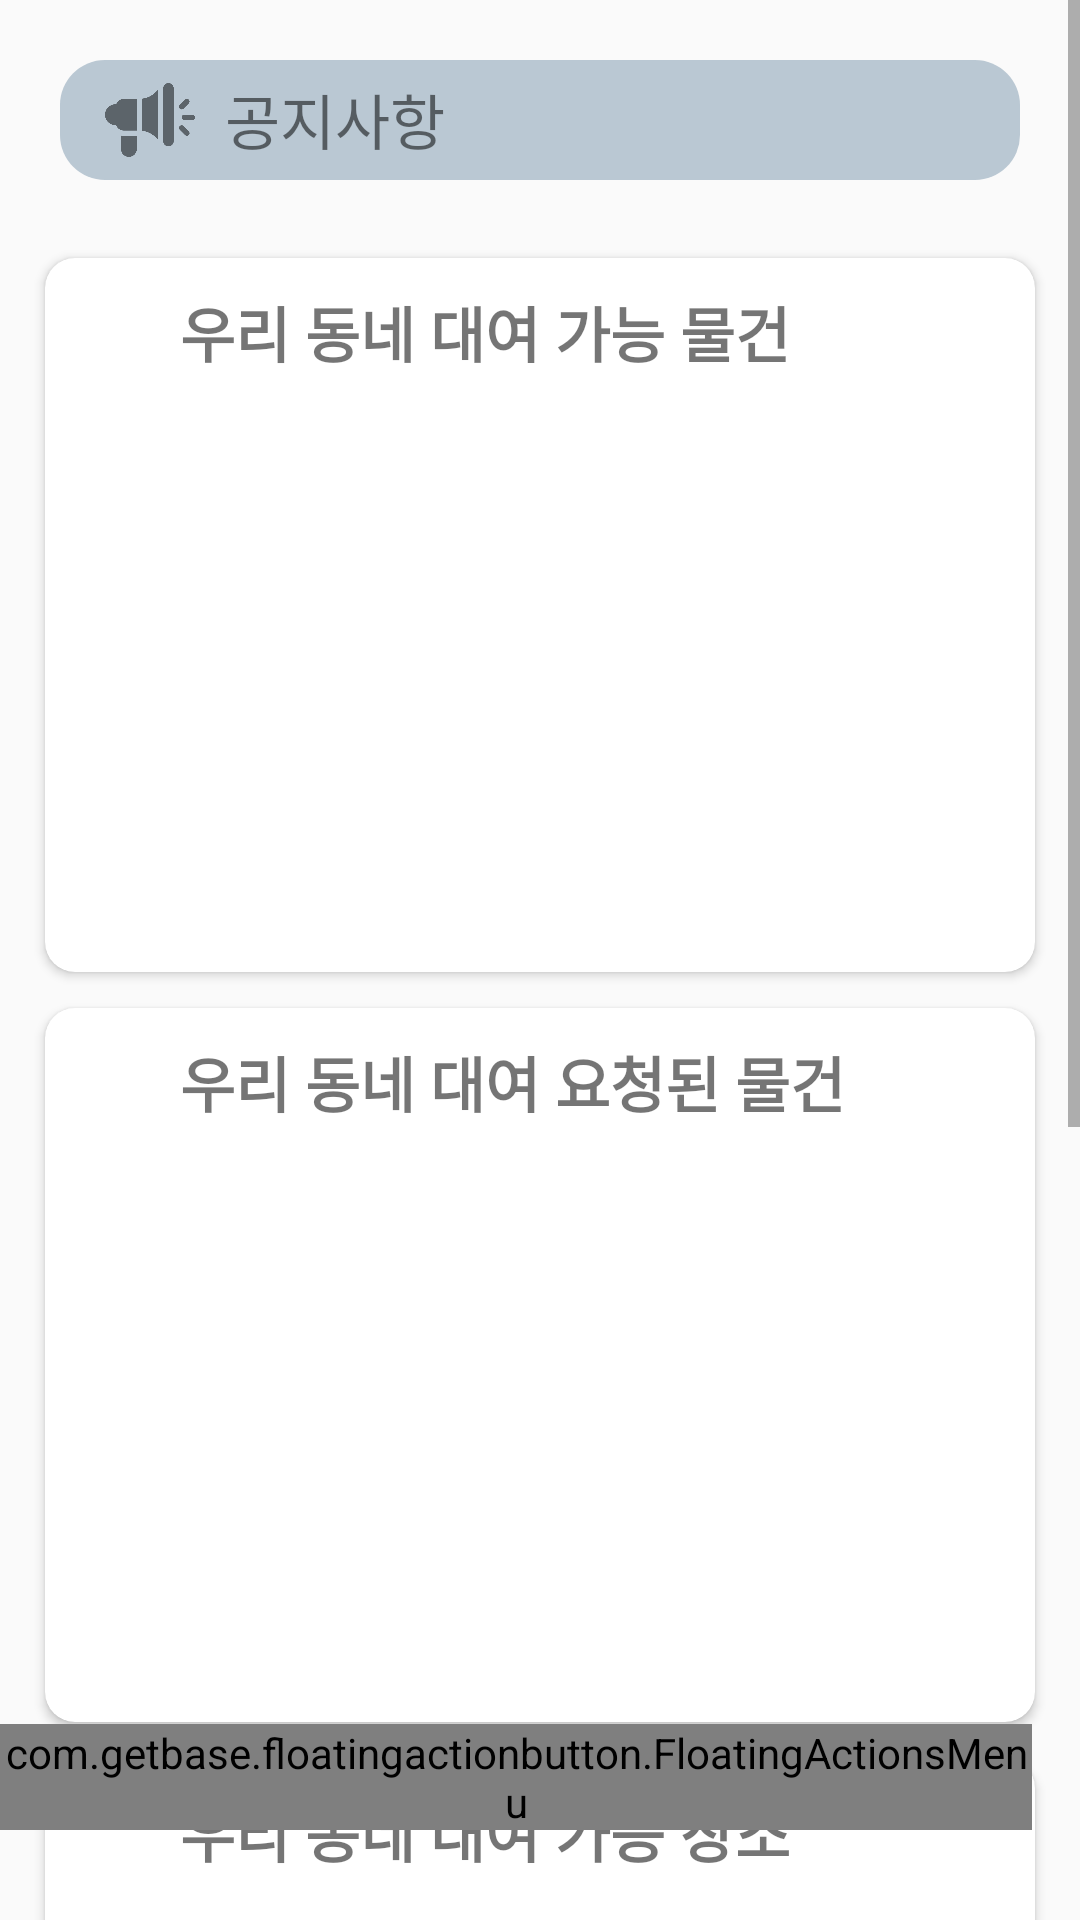

Icon click points for this 1080w x 1920h phone screenshot, format [x,y]:
megaphone: [150,120]
